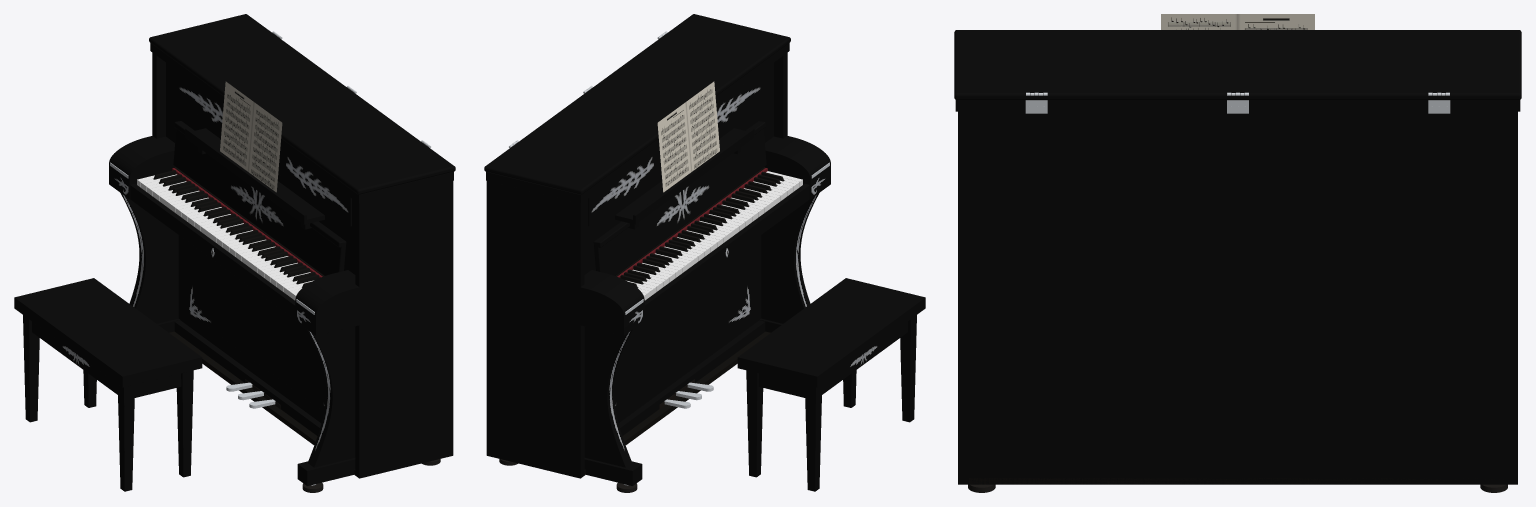
The model's file is piano.glb.
The picture shows the model from 3 angles, left to right: view 1: azimuth 30°, elevation 25°; view 2: azimuth 150°, elevation 25°; view 3: azimuth 270°, elevation 25°; orthographic projection. The views are drawn at different scales.
Parts seen in each view (by area): view 1: piano_static, piano_lid, piano_fallboard, piano_sheet; view 2: piano_static, piano_lid, piano_fallboard, piano_sheet; view 3: piano_static, piano_lid, piano_sheet.
Boxes of the visible parts, x1,y1,x2,y2 form: piano_static: [14, 31, 453, 492]; piano_lid: [149, 14, 455, 194]; piano_fallboard: [173, 121, 346, 275]; piano_sheet: [220, 81, 282, 192]; piano_static: [486, 31, 925, 492]; piano_lid: [484, 14, 790, 194]; piano_fallboard: [593, 121, 766, 275]; piano_sheet: [657, 81, 719, 192]; piano_static: [955, 92, 1520, 492]; piano_lid: [954, 30, 1521, 100]; piano_sheet: [1161, 14, 1314, 29].
Bounding box in the file's own units: 1.21 × 1.26 × 1.55.
Materials: 11 (6 with a texture image).
